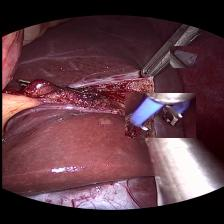Bipolar: (124, 94, 194, 138)
Grasper: (128, 22, 204, 82)
Specimen Bag: (169, 47, 201, 68)
